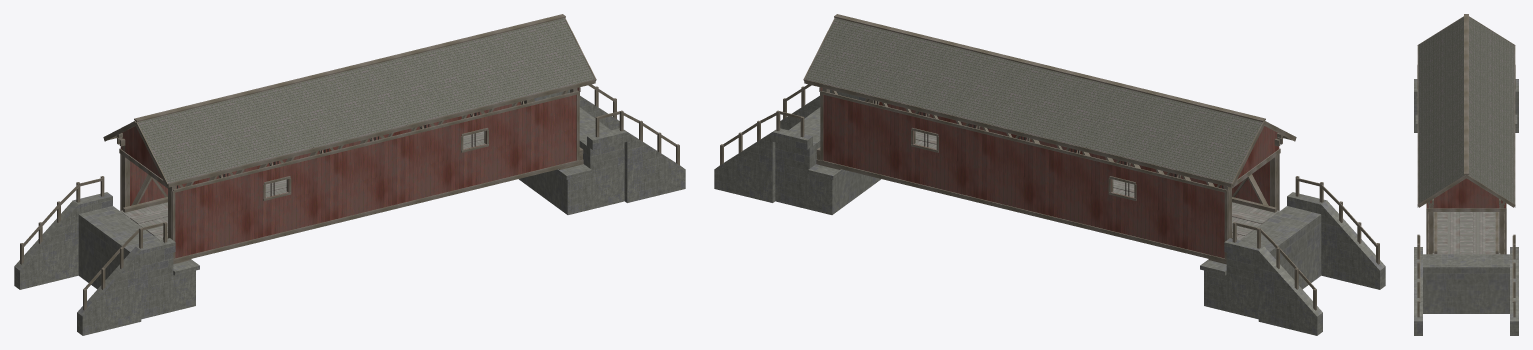
The model's file is covered-wooden-bridge-lod1.glb.
3 renders of one model, left to right at view 1: azimuth 30°, elevation 25°; view 2: azimuth 150°, elevation 25°; view 3: azimuth 270°, elevation 25°, orthographic. The views are drawn at different scales.
Visible parts, largest first — view 1: covered-wooden-bridge; view 2: covered-wooden-bridge; view 3: covered-wooden-bridge.
Boxes of the visible parts, left/top/right/bottom form: covered-wooden-bridge: left=14, top=14, right=685, bottom=335; covered-wooden-bridge: left=714, top=14, right=1385, bottom=335; covered-wooden-bridge: left=1414, top=14, right=1518, bottom=335.
Size of the model in its own units: 36 by 9.69 by 7.1.
6 materials, 5 textured.
